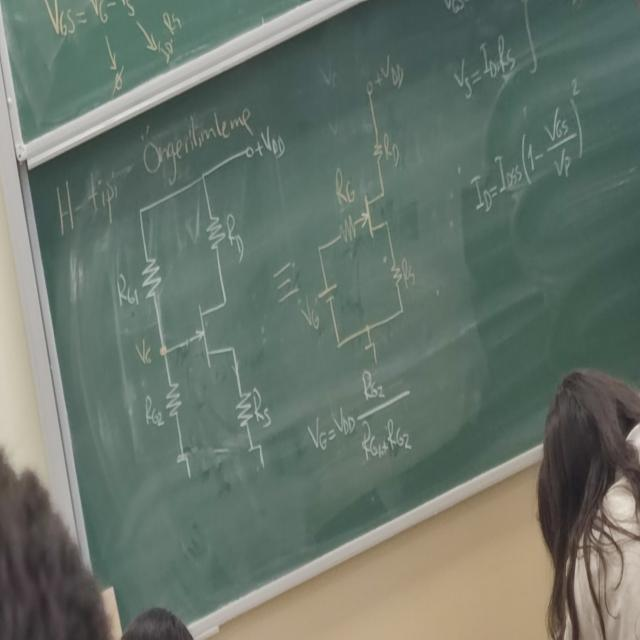image: (80, 154, 305, 561), (277, 32, 444, 402)
math: (453, 59, 603, 256), (296, 333, 428, 506), (442, 15, 542, 123)
text: (42, 76, 267, 261)
